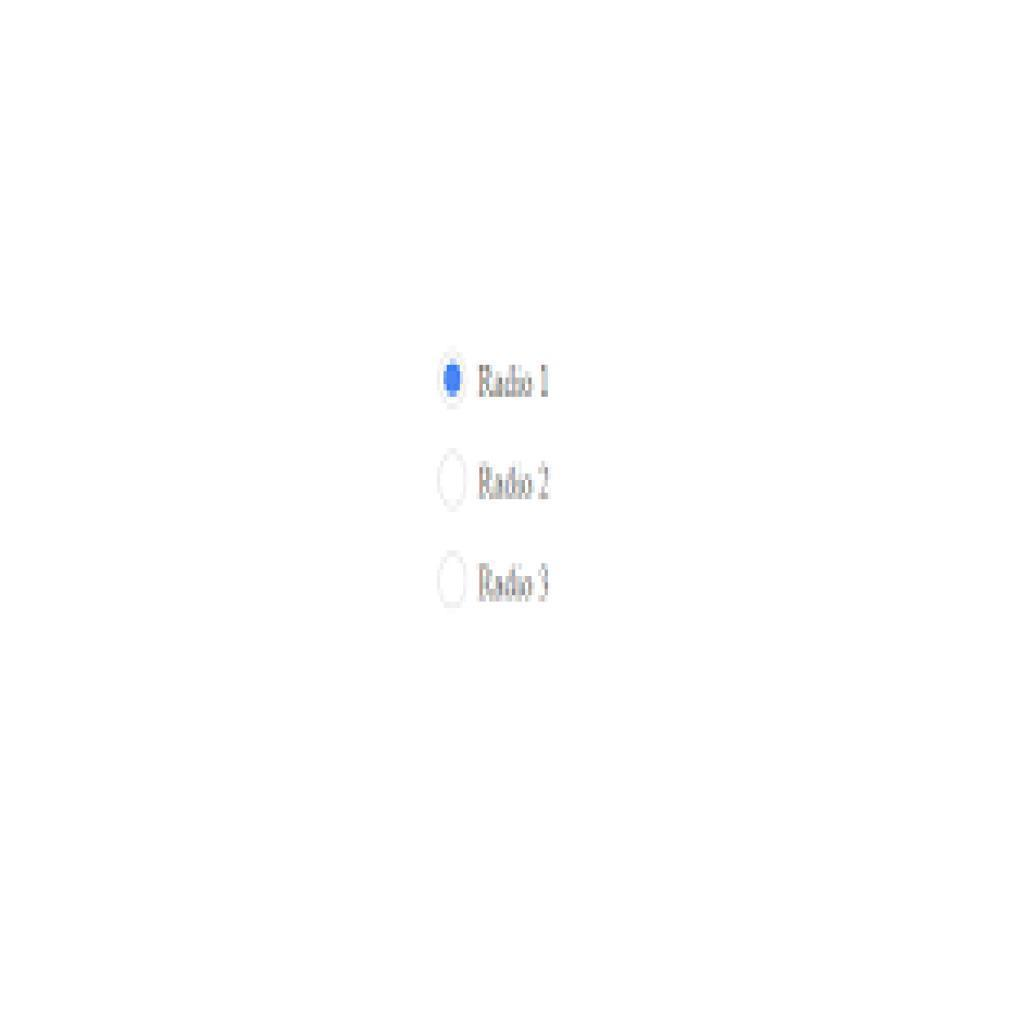radio: (434, 544, 473, 614), (433, 343, 468, 415), (438, 448, 468, 519)
